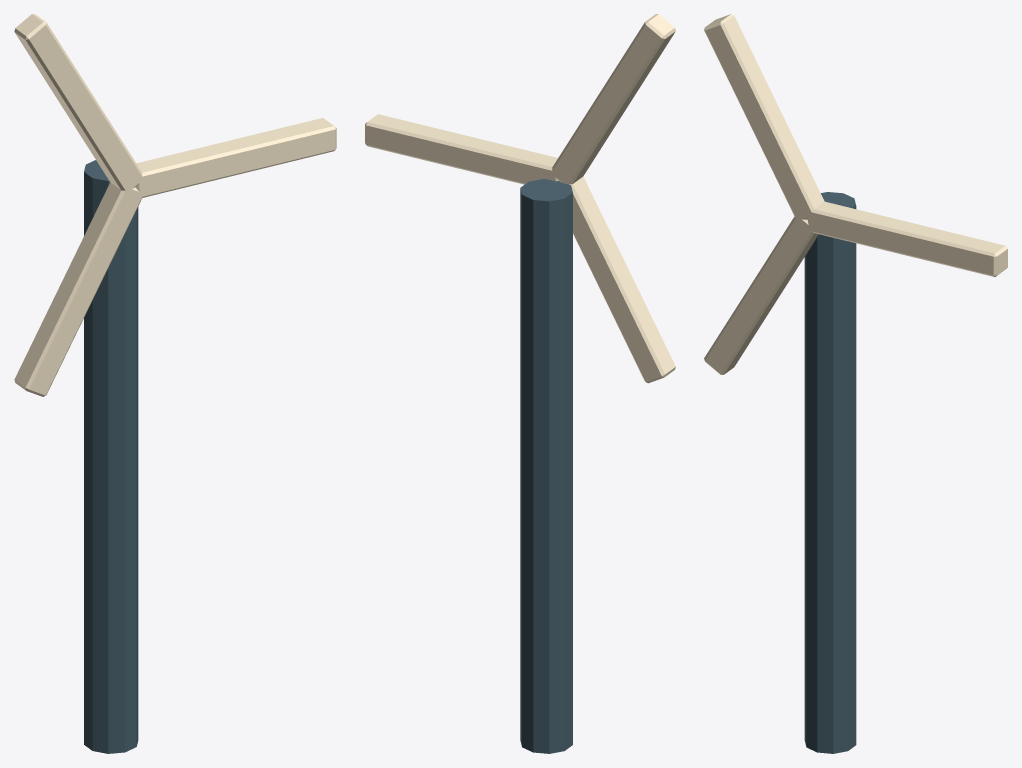
The model's file is wind-turbine.glb.
The picture shows the model from 3 angles, left to right: view 1: azimuth 30°, elevation 25°; view 2: azimuth 150°, elevation 25°; view 3: azimuth 330°, elevation 25°; orthographic projection. The views are drawn at different scales.
Parts seen in each view (by area): view 1: mast, rotor.002, rotor, rotor.001; view 2: mast, rotor.002, rotor, rotor.001; view 3: mast, rotor.001, rotor, rotor.002.
Part boxes in pixels (x1,y1,x2,y2): mast: [84, 160, 138, 753]; rotor.002: [14, 182, 143, 396]; rotor: [135, 118, 336, 197]; rotor.001: [14, 14, 143, 191]; mast: [520, 179, 572, 753]; rotor.002: [569, 176, 675, 383]; rotor: [365, 114, 558, 184]; rotor.001: [551, 14, 675, 184]; mast: [804, 192, 856, 753]; rotor.001: [704, 14, 824, 219]; rotor: [807, 201, 1007, 276]; rotor.002: [704, 216, 818, 374].
Bounding box in the file's own units: 1.93 × 4.51 × 0.425.
